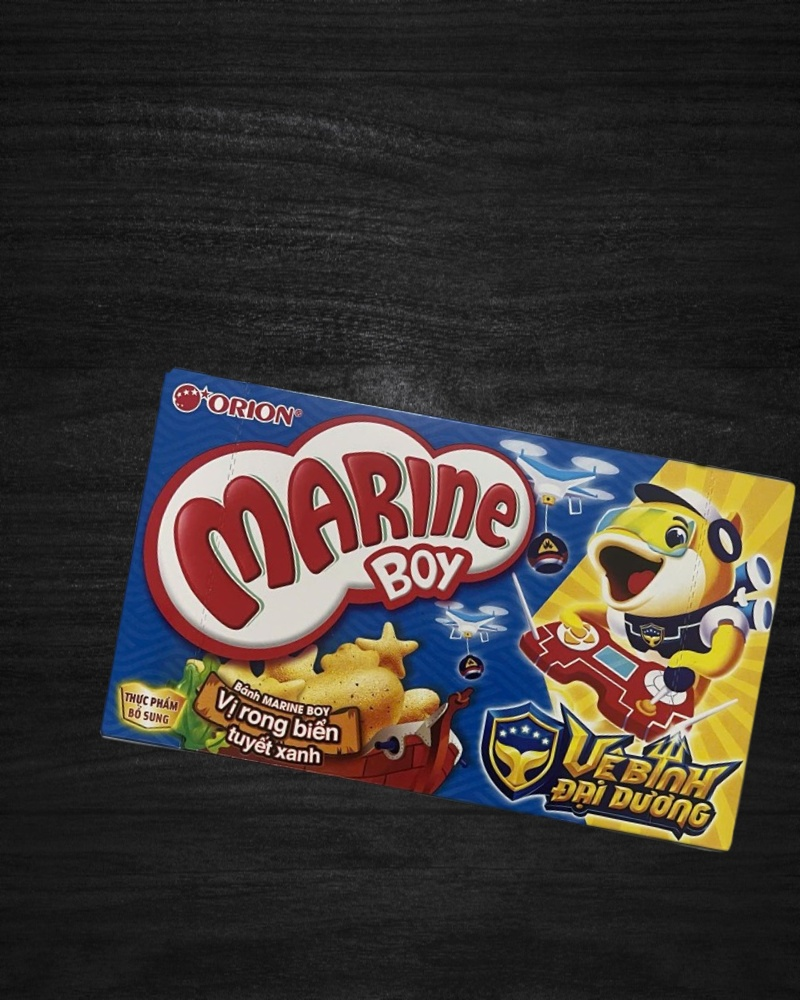Marine: (100, 366, 800, 855)
